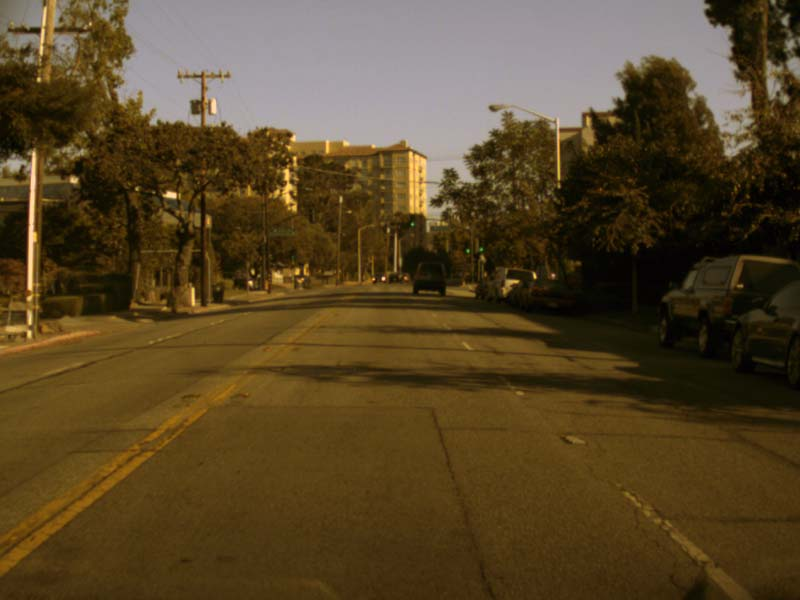Green: (464, 241, 471, 254), (478, 239, 483, 251), (410, 214, 415, 225), (291, 249, 295, 260)
